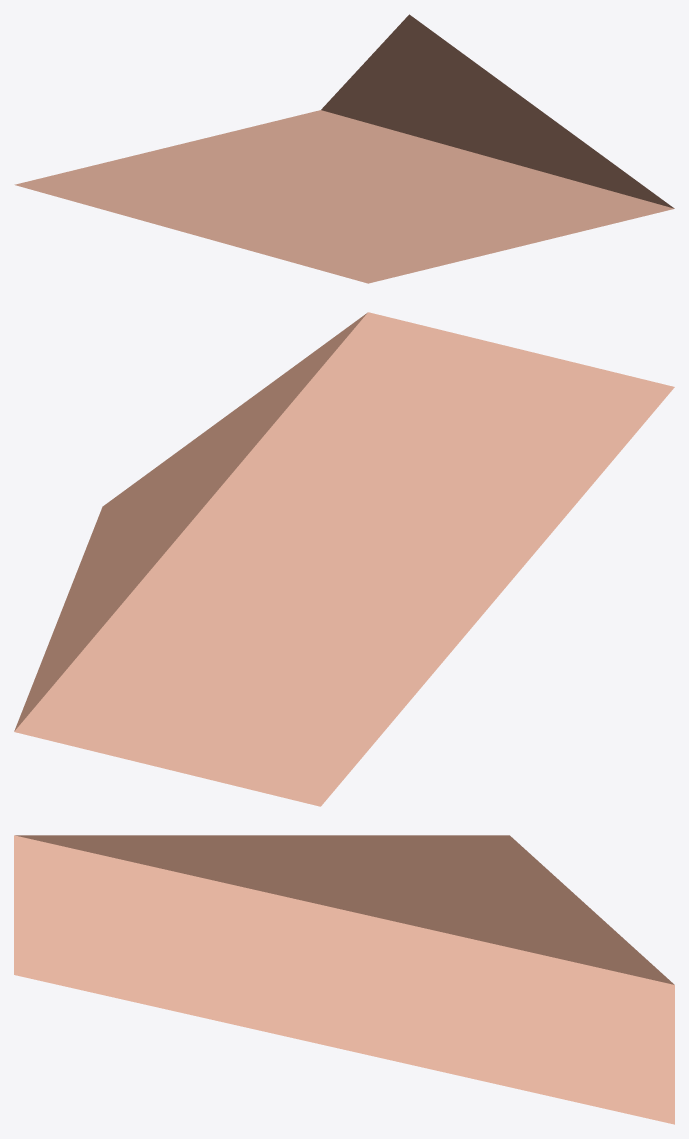
File: terrain-ramplarge.glb
The picture shows the model from 3 angles, top to bottom: view 1: azimuth 30°, elevation 25°; view 2: azimuth 150°, elevation 25°; view 3: azimuth 270°, elevation 25°; orthographic projection. The views are drawn at different scales.
Visible parts, largest first — view 1: terrain_rampLarge; view 2: terrain_rampLarge; view 3: terrain_rampLarge.
Part boxes in pixels (x1,y1,x2,y2): terrain_rampLarge: (14,14,674,283); terrain_rampLarge: (14,312,674,806); terrain_rampLarge: (14,835,674,1124).
Bounding box in the file's own units: 1 × 0.5 × 2.
